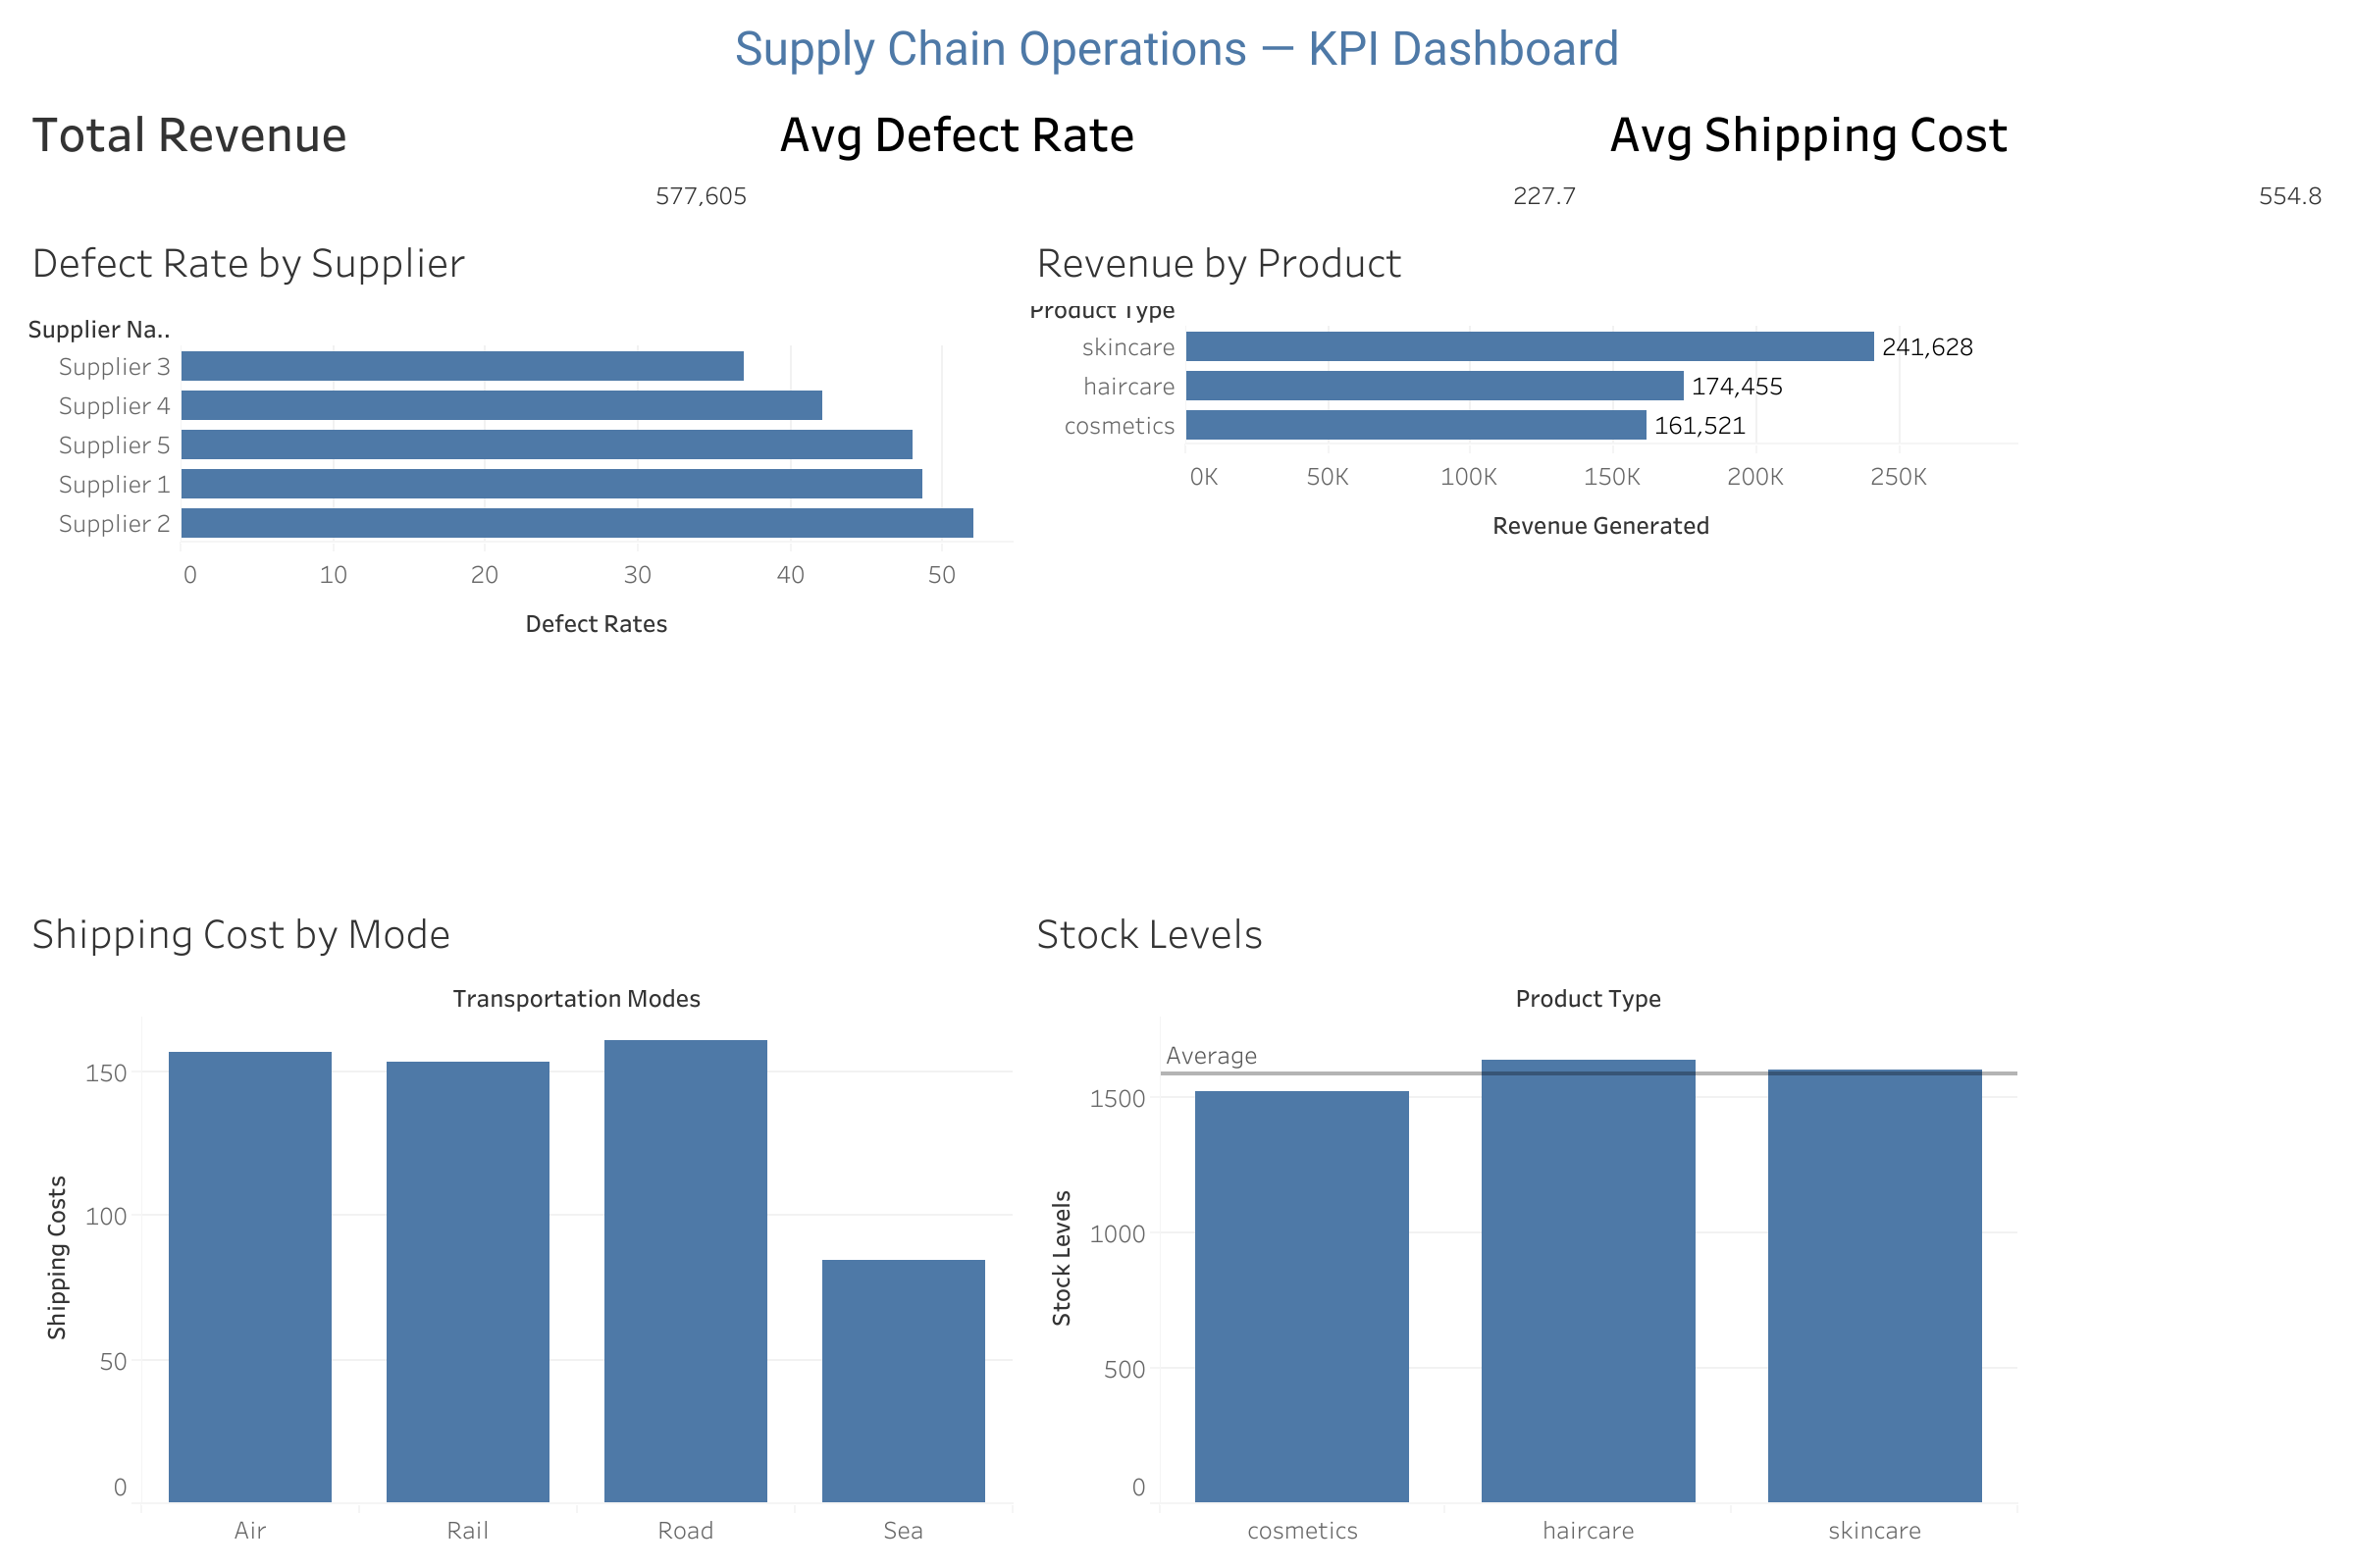

Layout of this report page (visuals, bound fields, positions):
{"tool":"tableau","page":{"name":"Dashboard 1","canvas":[1200,800],"ordinal":0},"visuals":[{"type":"text","box":[8,8,1184,32]},{"type":"worksheet","title":"Defect Rate by Supplier","mark":"Bar","rows":["supplier_name"],"cols":["defect_rates"],"box":[8,40,512,376]},{"type":"worksheet","title":"Revenue by Product","mark":"Automatic","rows":["product_type"],"cols":["revenue_generated"],"box":[520,40,512,376]},{"type":"legend","title":"Shipping Cost by Mode","param":"[federated.0tdnp4h1hdqww61gs65gv1iewyuu].[none:transportation_modes:nk]","box":[1032,40,160,106]},{"type":"legend","title":"Stock Levels","param":"[federated.0tdnp4h1hdqww61gs65gv1iewyuu].[sum:stock_levels:qk]","box":[1032,146,160,65]},{"type":"worksheet","title":"Shipping Cost by Mode","mark":"Bar","rows":["shipping_costs"],"cols":["transportation_modes"],"box":[8,416,512,376]},{"type":"worksheet","title":"Stock Levels","mark":"Automatic","rows":["stock_levels"],"cols":["product_type"],"box":[520,416,512,376]}]}

Visuals, with their boxes in screenshot pixels (x1, y1, x2, y2), scaled from the page's 1200x800 canvas onto the 2353x1568 screenshot:
text: {"x1": 16, "y1": 16, "x2": 2337, "y2": 78}
"Defect Rate by Supplier" worksheet (Bar marks): {"x1": 16, "y1": 78, "x2": 1020, "y2": 815}
"Revenue by Product" worksheet: {"x1": 1020, "y1": 78, "x2": 2023, "y2": 815}
"Shipping Cost by Mode" legend: {"x1": 2023, "y1": 78, "x2": 2337, "y2": 287}
"Stock Levels" legend: {"x1": 2023, "y1": 287, "x2": 2337, "y2": 413}
"Shipping Cost by Mode" worksheet (Bar marks): {"x1": 16, "y1": 815, "x2": 1020, "y2": 1552}
"Stock Levels" worksheet: {"x1": 1020, "y1": 815, "x2": 2023, "y2": 1552}
